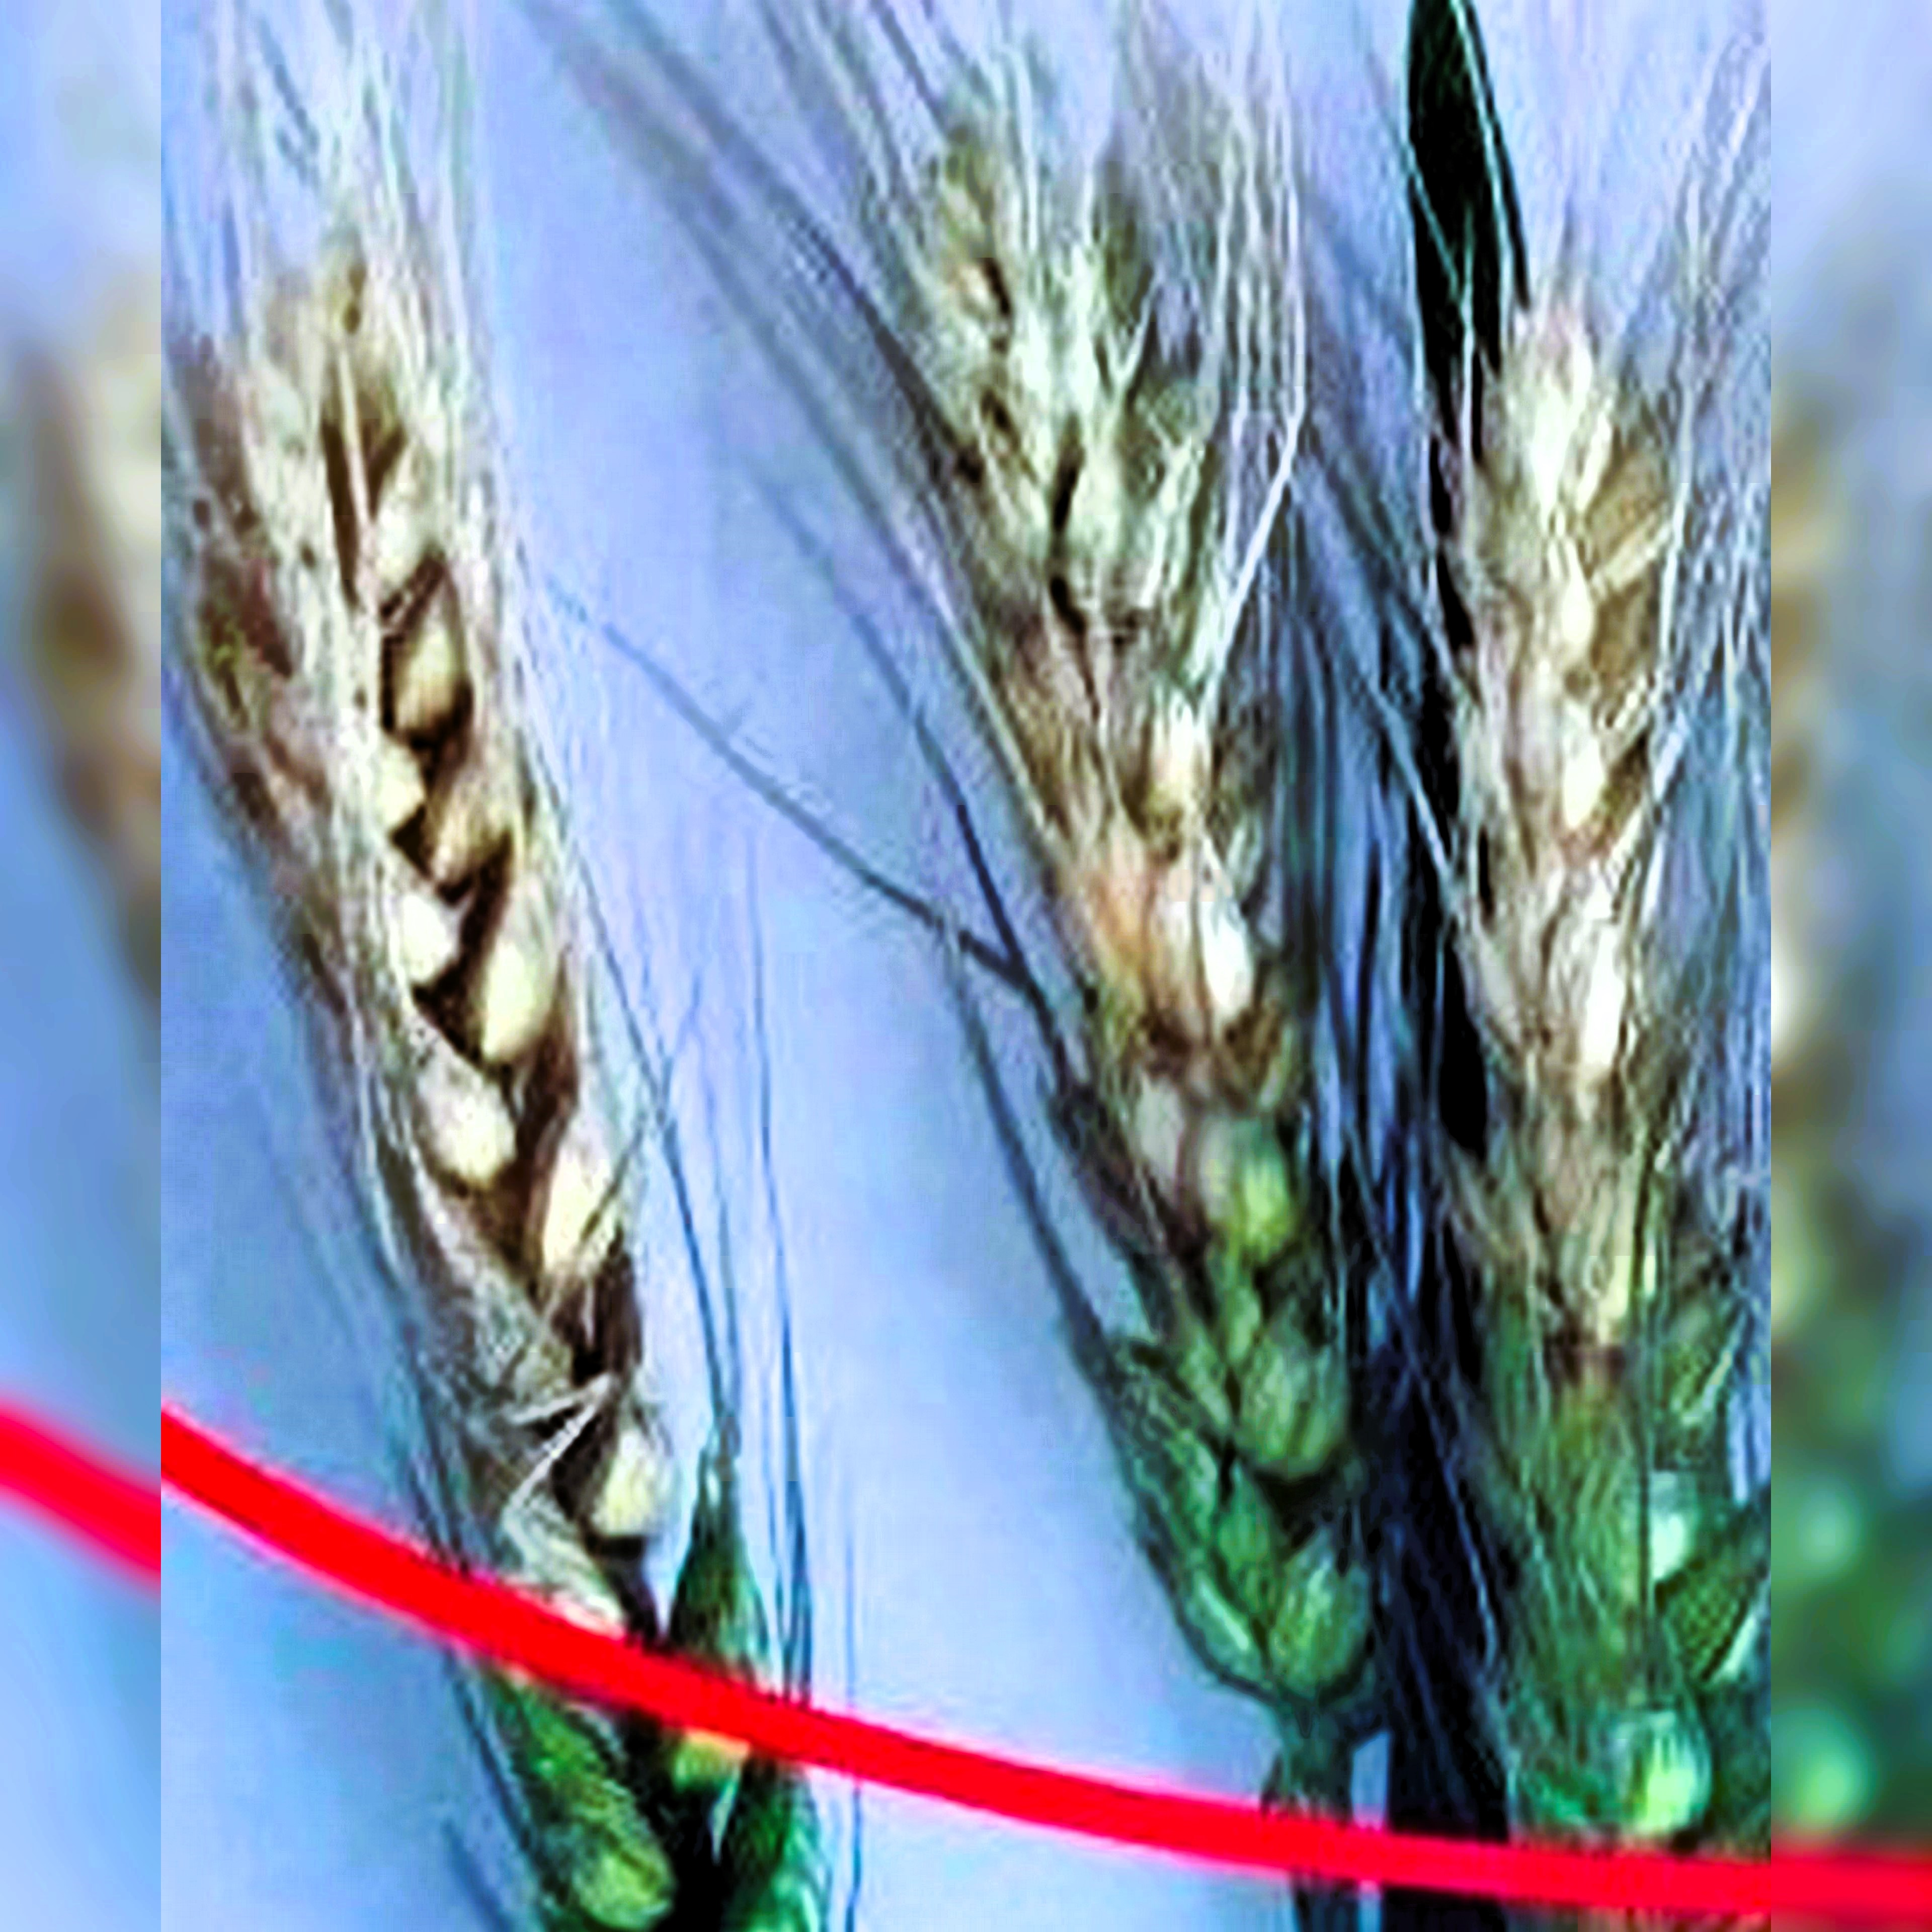Wheat scab: (888, 143, 1424, 1702)
